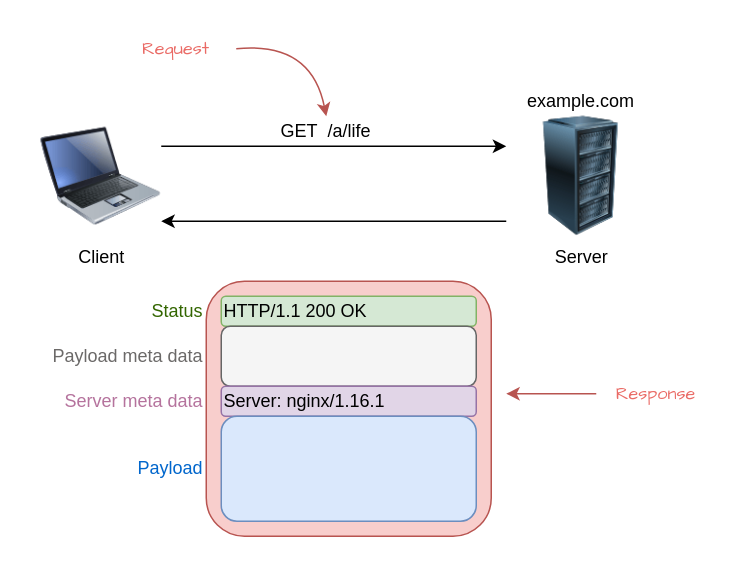
The diagram is 741 pixels wide and 563 high, and some of its shapes have lost their labels. Each missing label, with the centre of its shape:
Content-Type: application/json; charset=utf-8: point 348,355
{ "answer": "42" }: point 348,468
